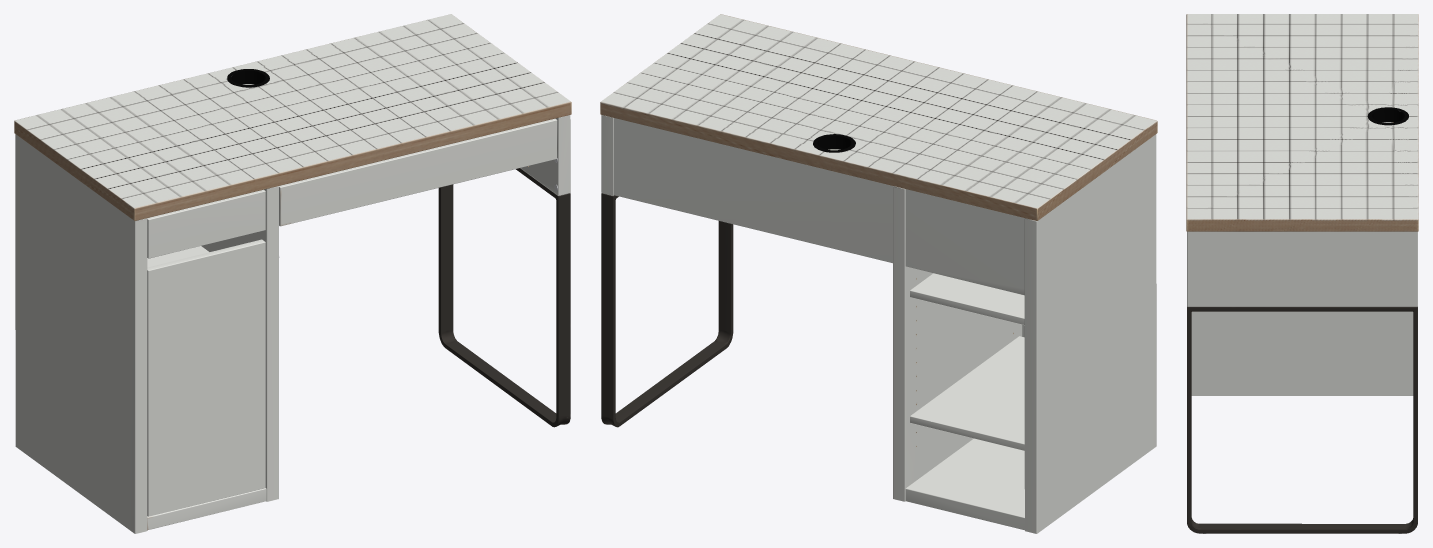
File: micke_desk_white_anthracite.glb
The picture shows the model from 3 angles, left to right: view 1: azimuth 30°, elevation 25°; view 2: azimuth 150°, elevation 25°; view 3: azimuth 270°, elevation 25°; orthographic projection. The views are drawn at different scales.
Parts seen in each view (by area): view 1: model; view 2: model; view 3: model.
Part boxes in pixels (x1,y1,x2,y2): model: (14, 14, 571, 533); model: (600, 14, 1157, 533); model: (1186, 14, 1418, 533).
Size of the model in its own units: 1.05 by 0.7523 by 0.5002.
1 material, 1 textured.
